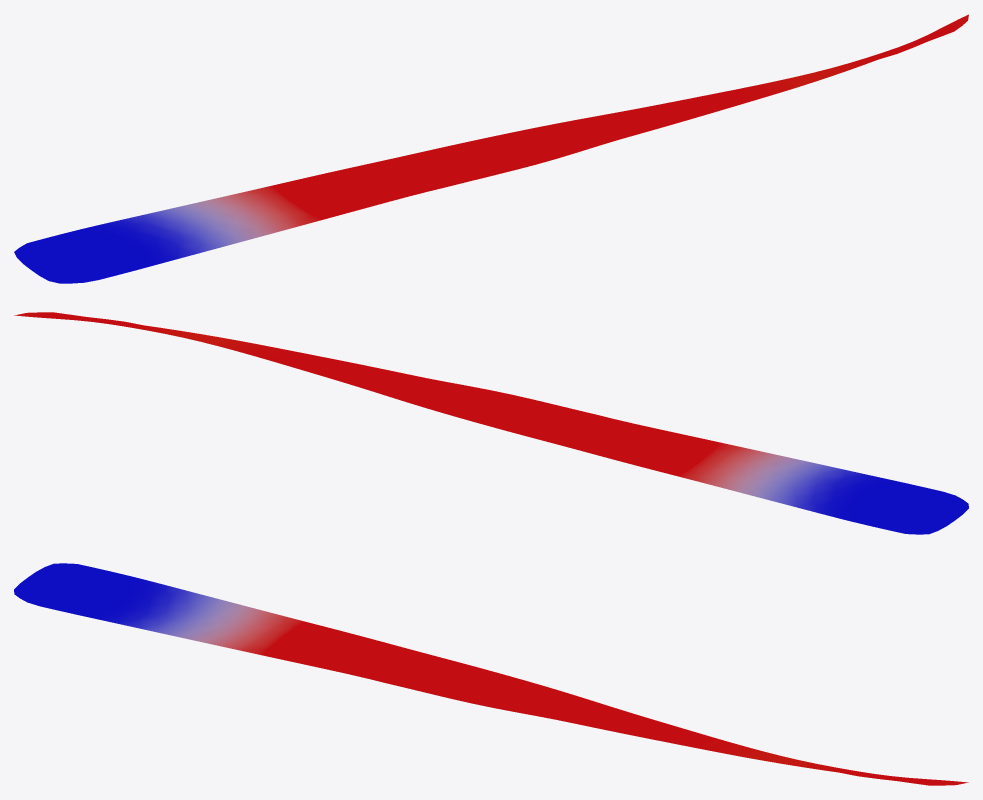
The model's file is SM_Prop_Flag_Horizontal_12_Opti_Mesh_n.fbx.
3 renders of one model, top to bottom at view 1: azimuth 30°, elevation 25°; view 2: azimuth 150°, elevation 25°; view 3: azimuth 330°, elevation 25°, orthographic. The views are drawn at different scales.
Visible parts, largest first — view 1: Flag; view 2: Flag; view 3: Flag.
Part boxes in pixels (x1,y1,x2,y2): Flag: [14, 14, 968, 283]; Flag: [14, 312, 968, 534]; Flag: [14, 563, 968, 785].
Bounding box in the file's own units: 934 × 8.63e-05 × 94.68.
